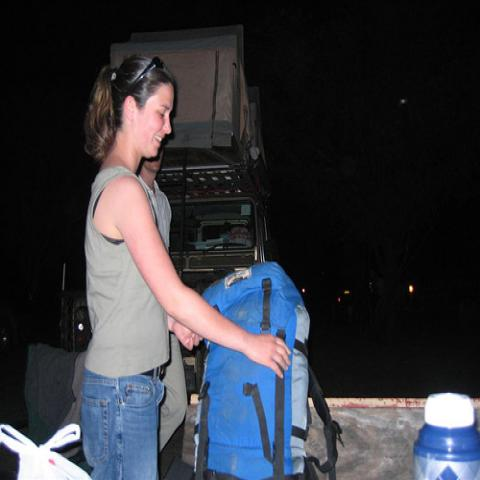truck: (107, 29, 266, 290)
